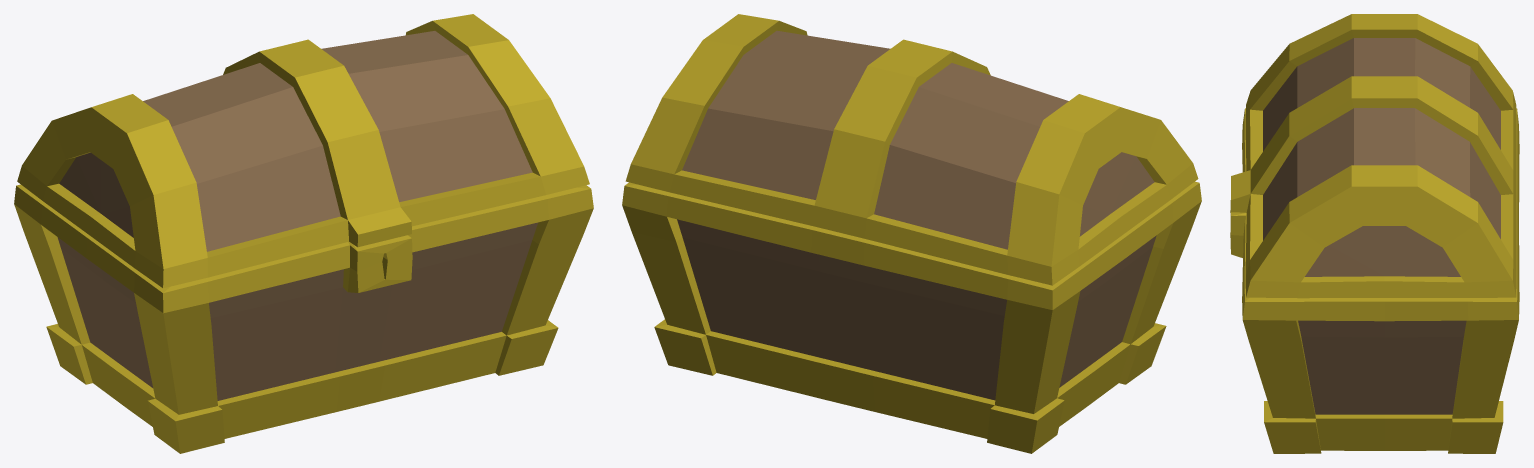
The model's file is coffreOuvre.fbx.
The picture shows the model from 3 angles, left to right: view 1: azimuth 30°, elevation 25°; view 2: azimuth 150°, elevation 25°; view 3: azimuth 270°, elevation 25°; orthographic projection. The views are drawn at different scales.
Parts seen in each view (by area): view 1: top, bottom; view 2: top, bottom; view 3: top, bottom.
Part boxes in pixels (bbox=[...]): top: bbox=[17, 14, 589, 288]; bottom: bbox=[14, 184, 593, 453]; top: bbox=[625, 14, 1198, 285]; bottom: bbox=[622, 181, 1201, 453]; top: bbox=[1231, 14, 1516, 298]; bottom: bbox=[1230, 108, 1519, 453].
Bounding box in the file's own units: 103 × 69.85 × 64.31.
